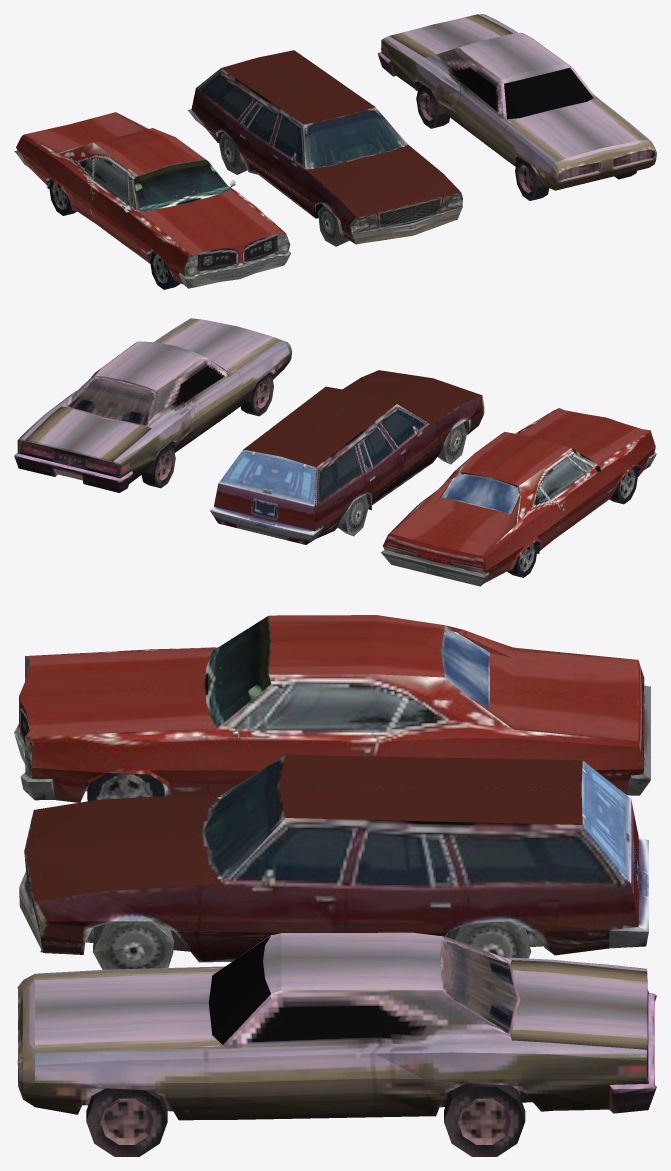
The model's file is cars.glb.
3 views of the same model, one above another, from view 1: azimuth 30°, elevation 25°; view 2: azimuth 150°, elevation 25°; view 3: azimuth 270°, elevation 25° (orthographic). The views are drawn at different scales.
Visible parts, largest first — view 1: 4Wagon.Ld1, coup2.Ld1, coup66-ld1; view 2: 4Wagon.Ld1, coup66-ld1, coup2.Ld1; view 3: coup2.Ld1, 4Wagon.Ld1, coup66-ld1.
Boxes of the visible parts, x1,y1,x2,y2 form: 4Wagon.Ld1: [187, 50, 462, 246]; coup2.Ld1: [377, 14, 656, 200]; coup66-ld1: [14, 112, 290, 289]; 4Wagon.Ld1: [210, 370, 484, 544]; coup66-ld1: [381, 408, 656, 586]; coup2.Ld1: [14, 318, 292, 492]; coup2.Ld1: [17, 932, 656, 1156]; 4Wagon.Ld1: [19, 754, 648, 969]; coup66-ld1: [14, 615, 650, 802].
Size of the model in its own units: 5.19 by 0.9099 by 3.35.
3 materials, 3 textured.
